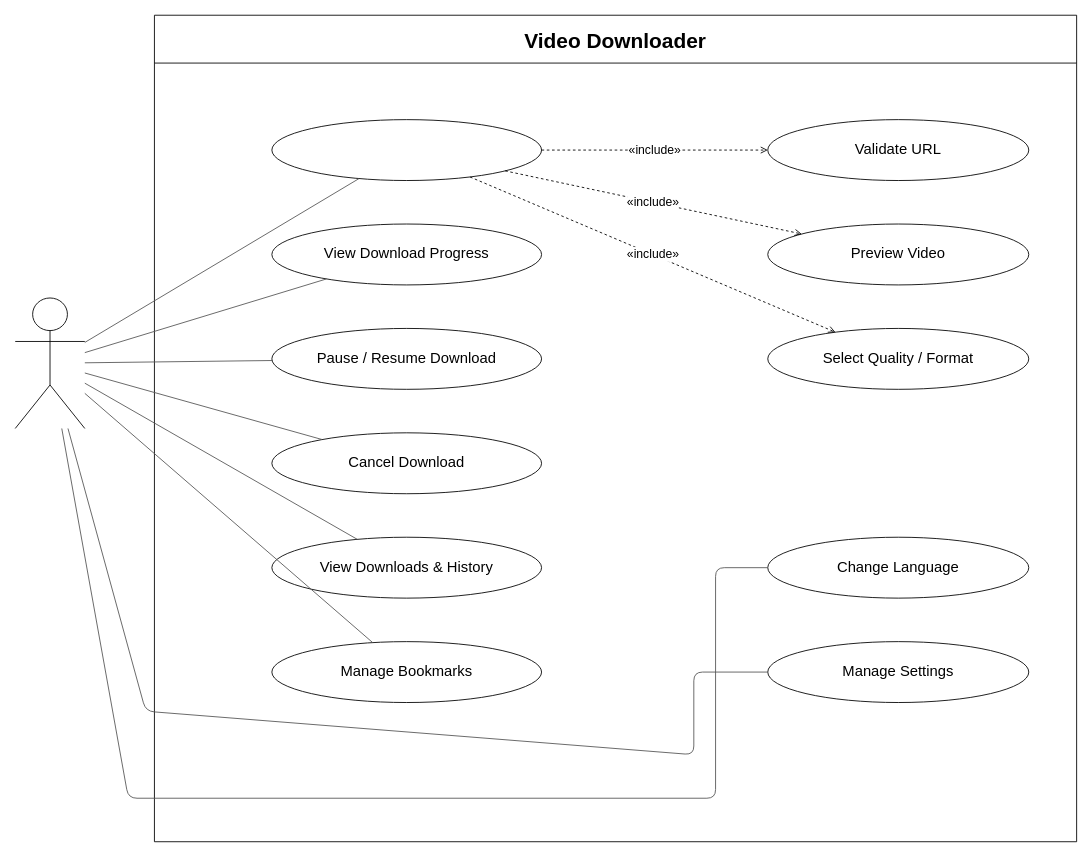
Image size: 1092x857. Some labels were removed from this diagram. Here are the shapes that lost their labels. From the top down, the centre of each, then its label:
the point at 406,150: Download Video
the point at 49,362: User
